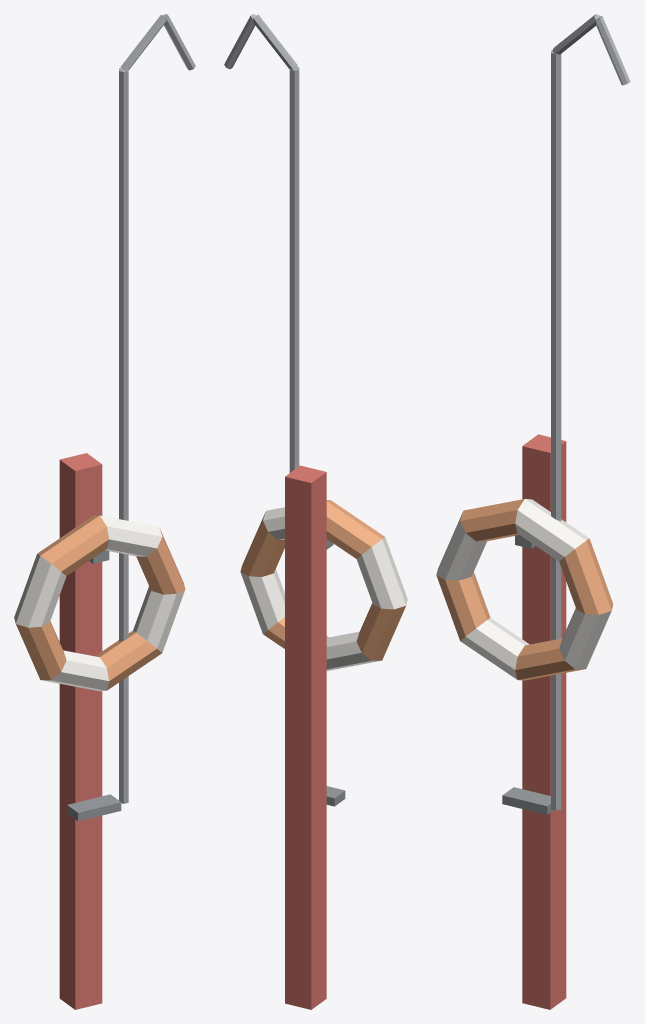
Rendered from buoy_post.glb.
3 renders of one model, left to right at view 1: azimuth 30°, elevation 25°; view 2: azimuth 150°, elevation 25°; view 3: azimuth 330°, elevation 25°, orthographic. The views are drawn at different scales.
Visible parts, largest first — view 1: buoy_post_redp, buoy_post_metal, buoy_post_white_u, buoy_post_orange_u, buoy_post_steel; view 2: buoy_post_redp, buoy_post_white_u, buoy_post_metal, buoy_post_orange_u; view 3: buoy_post_redp, buoy_post_metal, buoy_post_orange_u, buoy_post_white_u, buoy_post_steel.
Boxes of the visible parts, left/top/right/bottom form: buoy_post_redp: left=59, top=453, right=102, bottom=1009; buoy_post_metal: left=119, top=14, right=195, bottom=803; buoy_post_white_u: left=14, top=515, right=184, bottom=691; buoy_post_orange_u: left=16, top=515, right=185, bottom=690; buoy_post_steel: left=67, top=550, right=121, bottom=821; buoy_post_redp: left=285, top=465, right=326, bottom=1009; buoy_post_white_u: left=240, top=507, right=407, bottom=670; buoy_post_metal: left=224, top=14, right=299, bottom=472; buoy_post_orange_u: left=240, top=500, right=405, bottom=660; buoy_post_redp: left=522, top=434, right=566, bottom=1009; buoy_post_metal: left=551, top=14, right=630, bottom=810; buoy_post_orange_u: left=436, top=499, right=613, bottom=680; buoy_post_white_u: left=436, top=499, right=611, bottom=679; buoy_post_steel: left=502, top=534, right=553, bottom=814.
Size of the model in its own units: 0.672 by 3.46 by 0.23.
